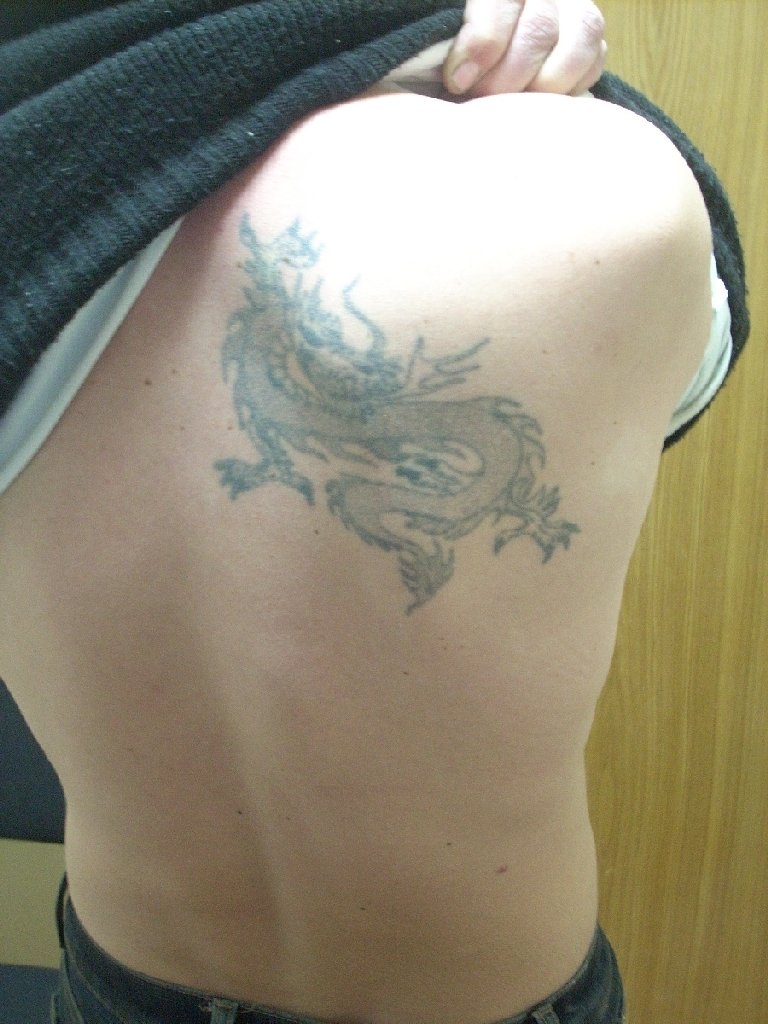tatu6_drakon: (181, 191, 674, 635)
